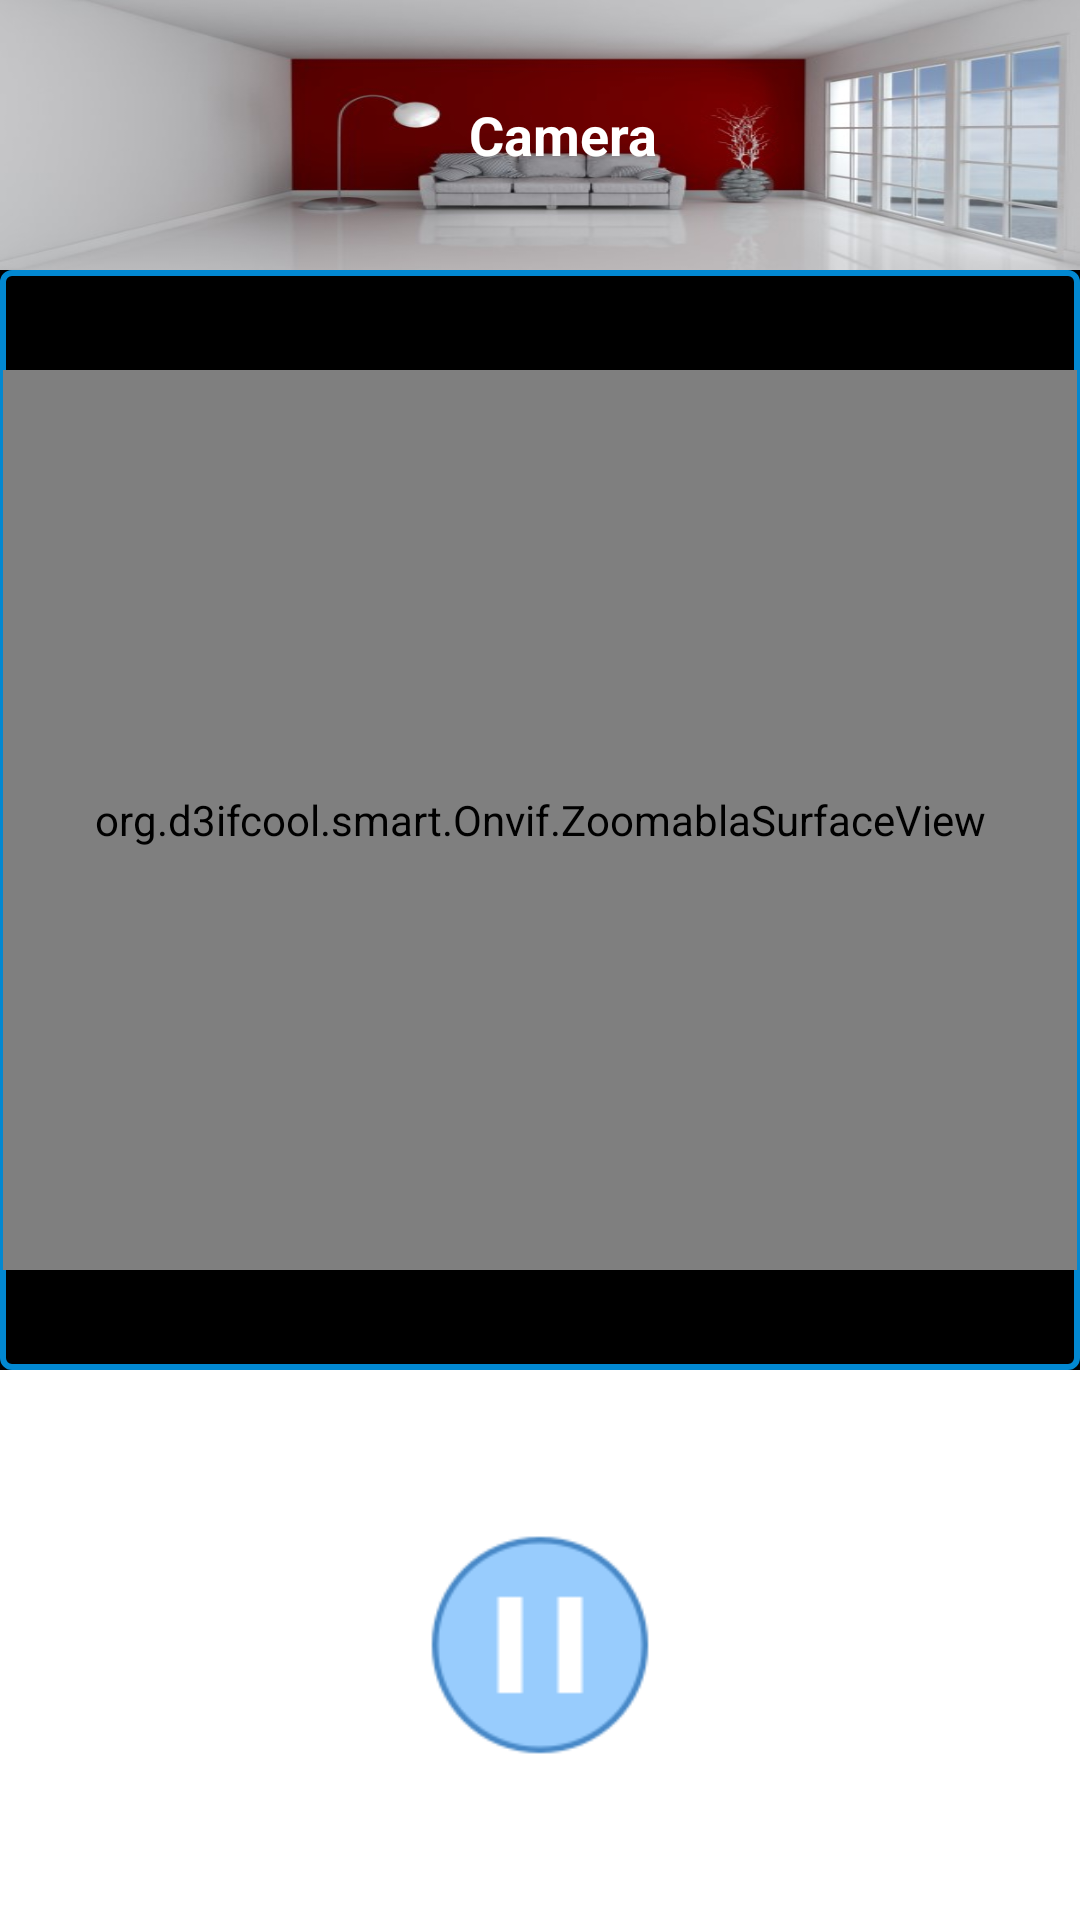

Where to tap for icons on this 1080w x 1920h app screen, as (x=x, y=y):
pause: (x=540, y=1645)
